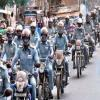motorcycles: (52, 46, 70, 97), (12, 68, 34, 100), (35, 57, 50, 100), (73, 37, 86, 78)
